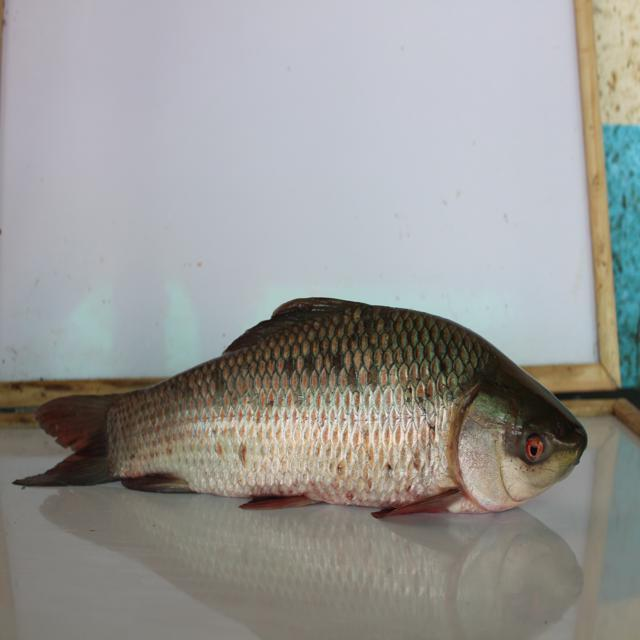Rohu: (30, 294, 598, 524)
